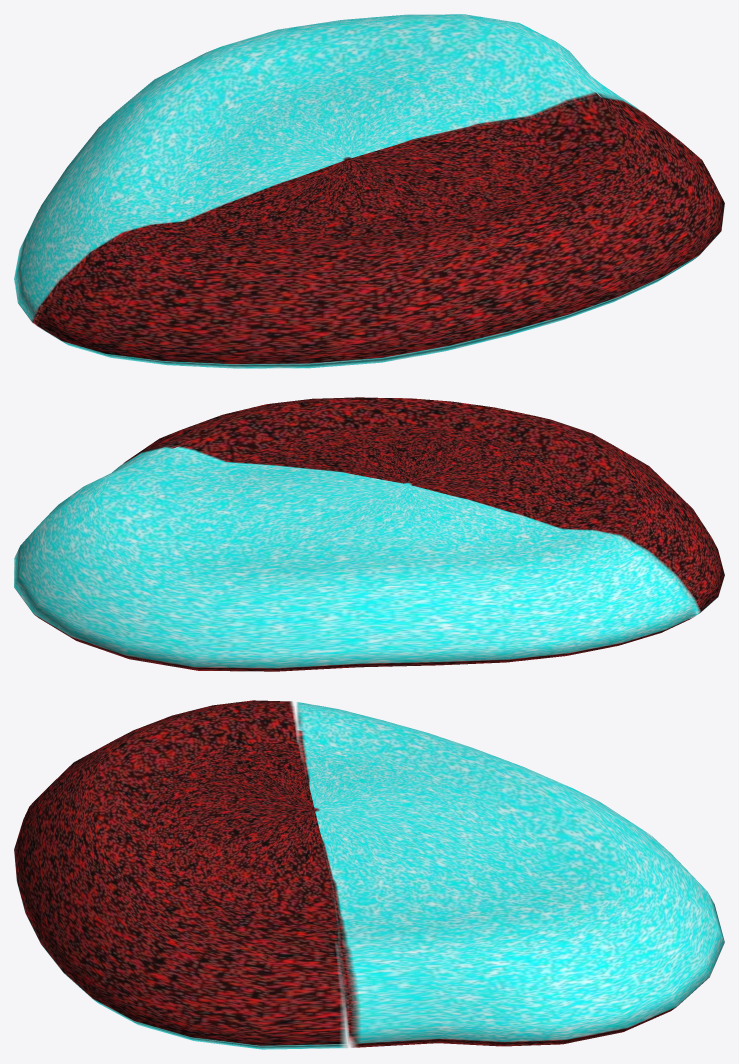
The picture shows the model from 3 angles, top to bottom: view 1: azimuth 30°, elevation 25°; view 2: azimuth 150°, elevation 25°; view 3: azimuth 270°, elevation 25°; orthographic projection. The views are drawn at different scales.
Parts seen in each view (by area): view 1: SM_VFX_LavaGlobA_LOD0; view 2: SM_VFX_LavaGlobA_LOD0; view 3: SM_VFX_LavaGlobA_LOD0.
Part boxes in pixels (left/top/right/bottom): SM_VFX_LavaGlobA_LOD0: left=14, top=14, right=724, bottom=368; SM_VFX_LavaGlobA_LOD0: left=14, top=397, right=724, bottom=671; SM_VFX_LavaGlobA_LOD0: left=14, top=700, right=724, bottom=1049.
Bounding box in the file's own units: 11.63 × 1.54 × 10.91.
1 material, 1 textured.
